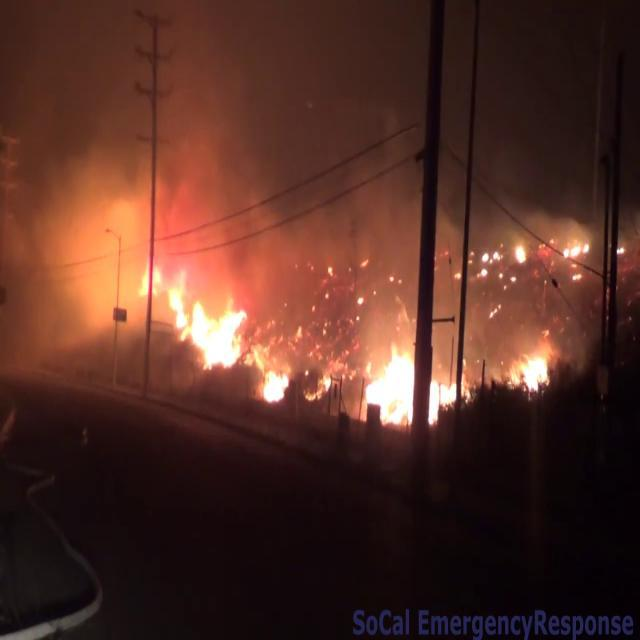Fire: (158, 268, 256, 370), (359, 332, 454, 429), (510, 336, 552, 396)
Smoke: (12, 0, 498, 359)
